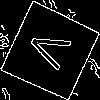V: (25, 25, 81, 76)
